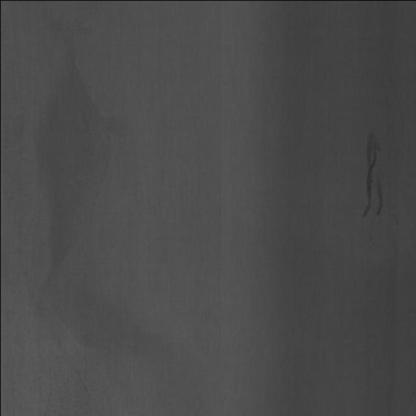water_spot: (358, 118, 390, 233)
